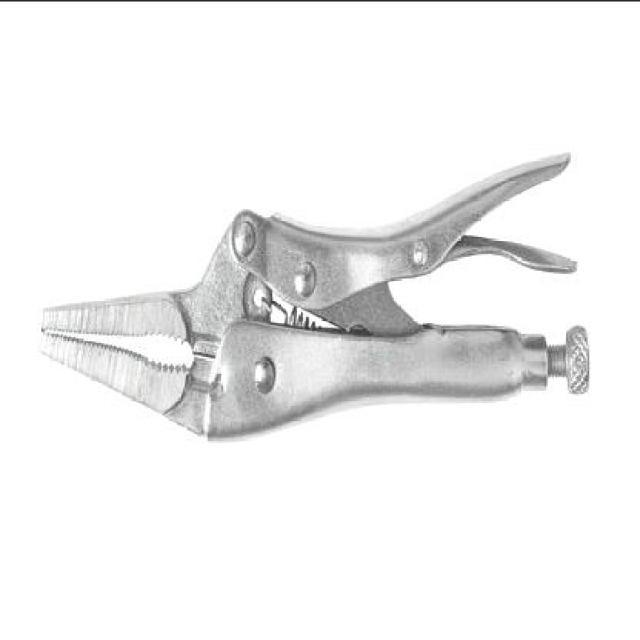pliers: (33, 146, 592, 460)
